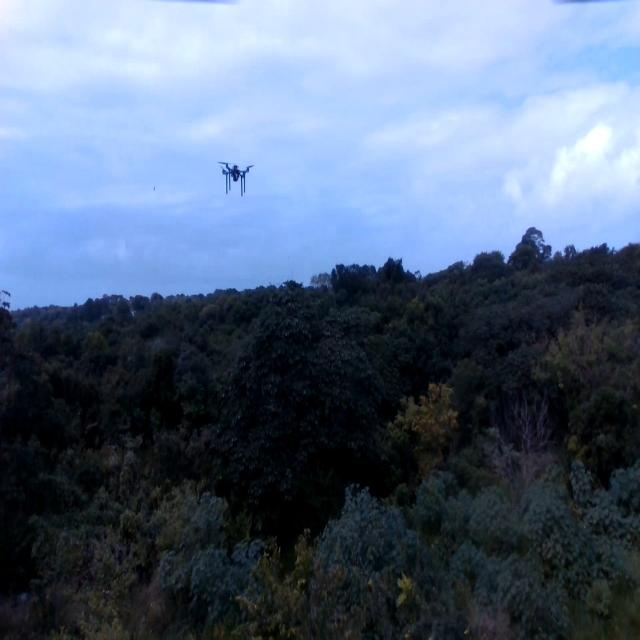-uav-: (213, 148, 264, 219)
